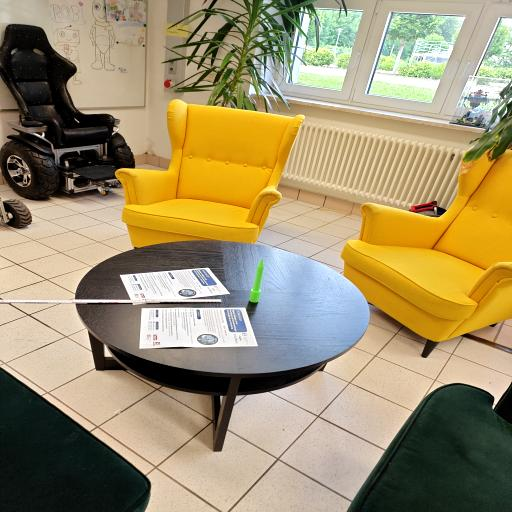Probe-Detection: (249, 258, 264, 302)
